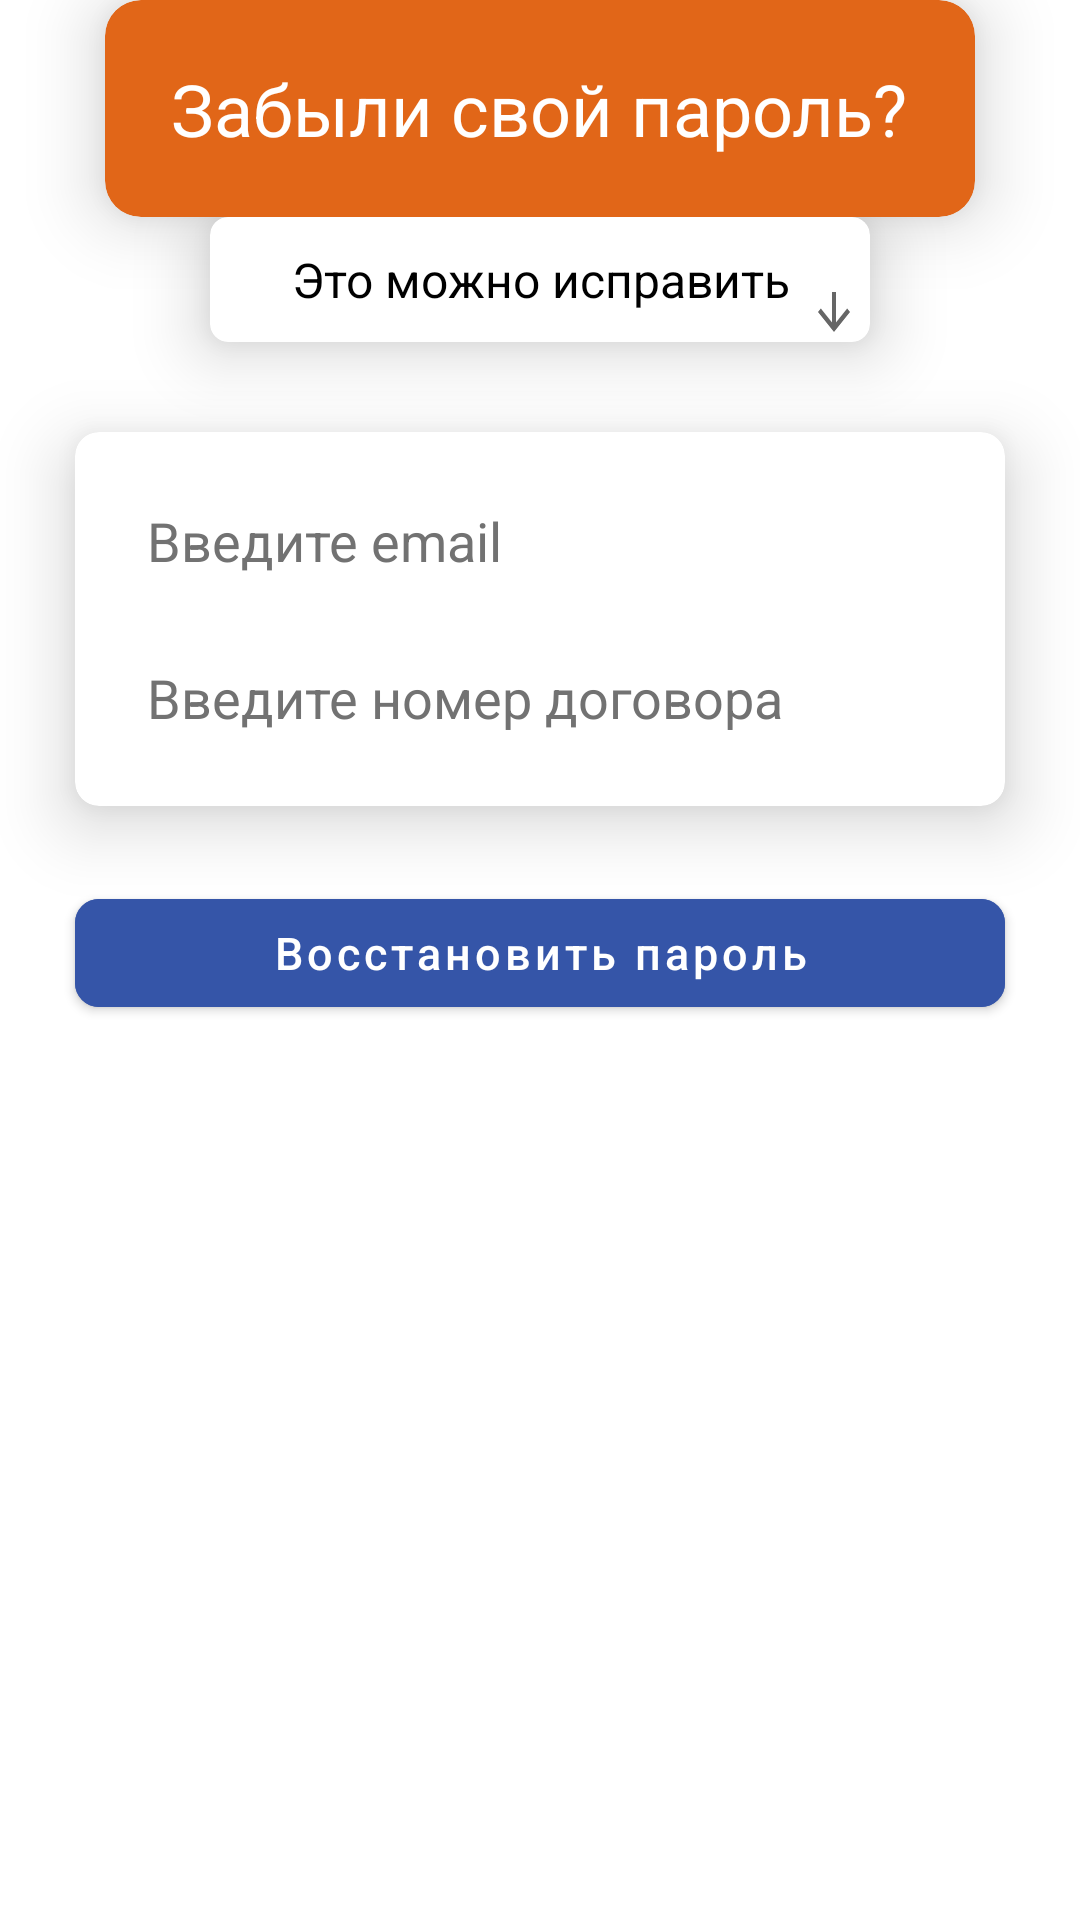

Where to tap for icons on this 1080w x 1920h app screen, as (x=x, y=y):
arrow bottom: (x=834, y=312)
